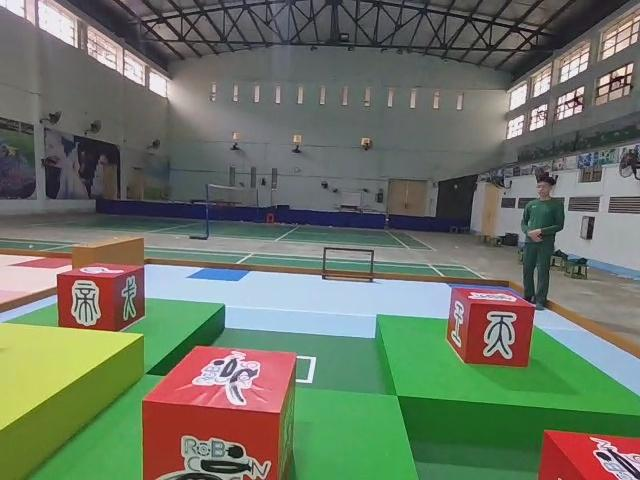R1: (139, 343, 301, 480), (535, 427, 640, 480)
R2 Fake: (444, 285, 537, 370), (55, 261, 146, 333)
